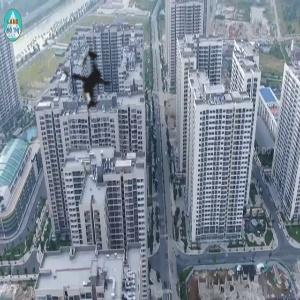drone: (31, 27, 147, 143)
